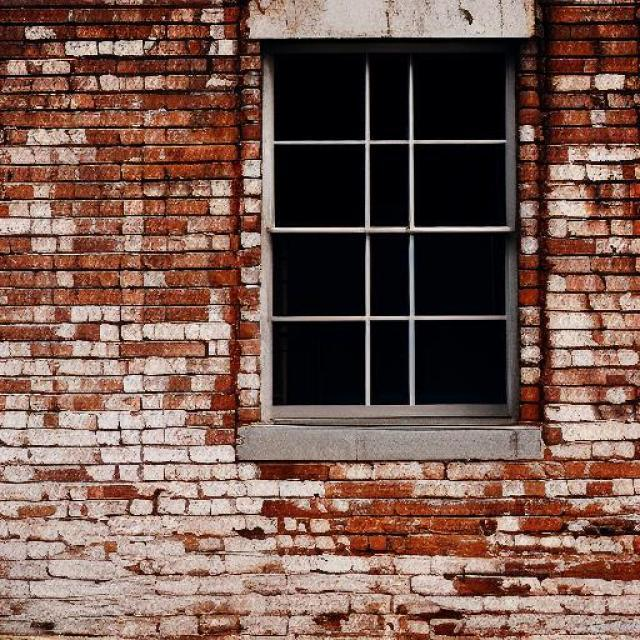window: (260, 37, 518, 426)
